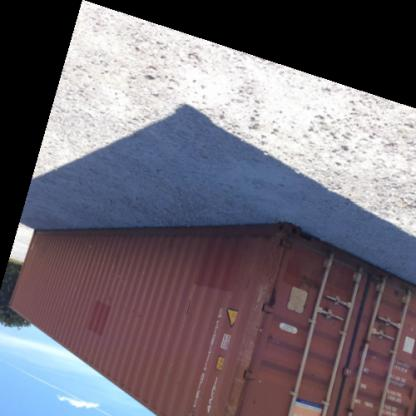Damage: (242, 238, 286, 346), (286, 250, 351, 294), (222, 344, 260, 414)
